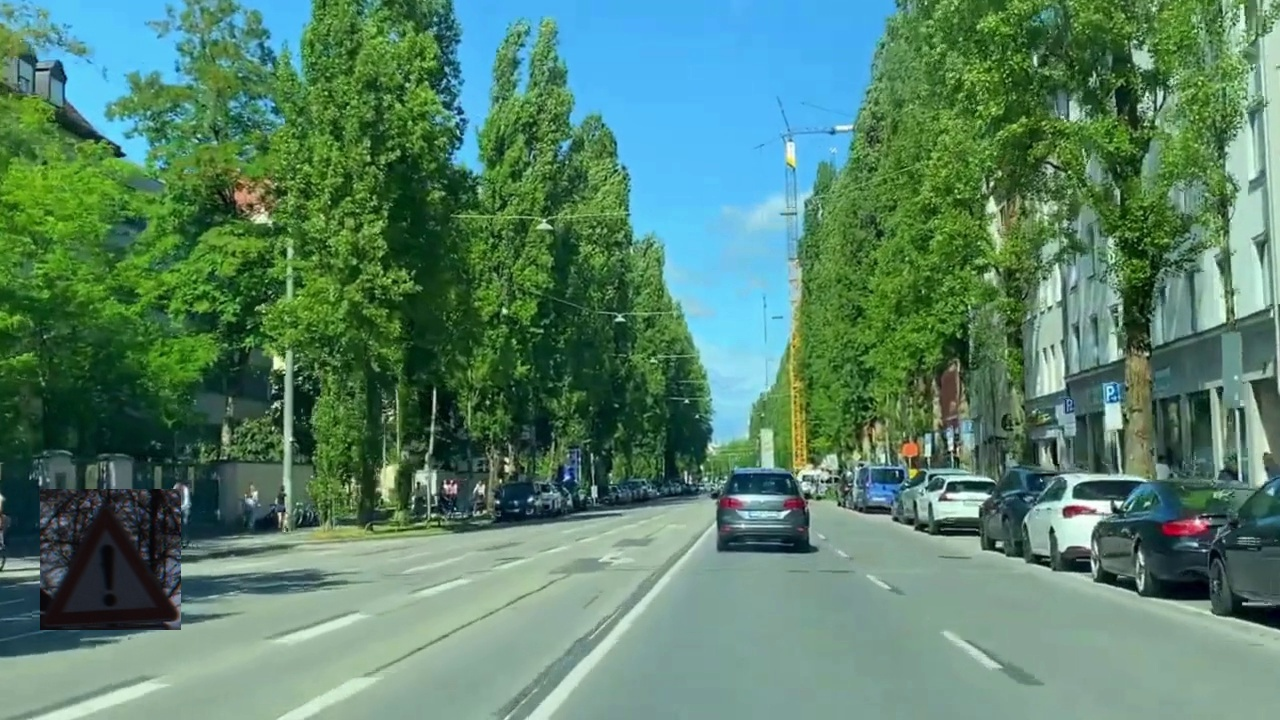Caution: (40, 489, 181, 630)
